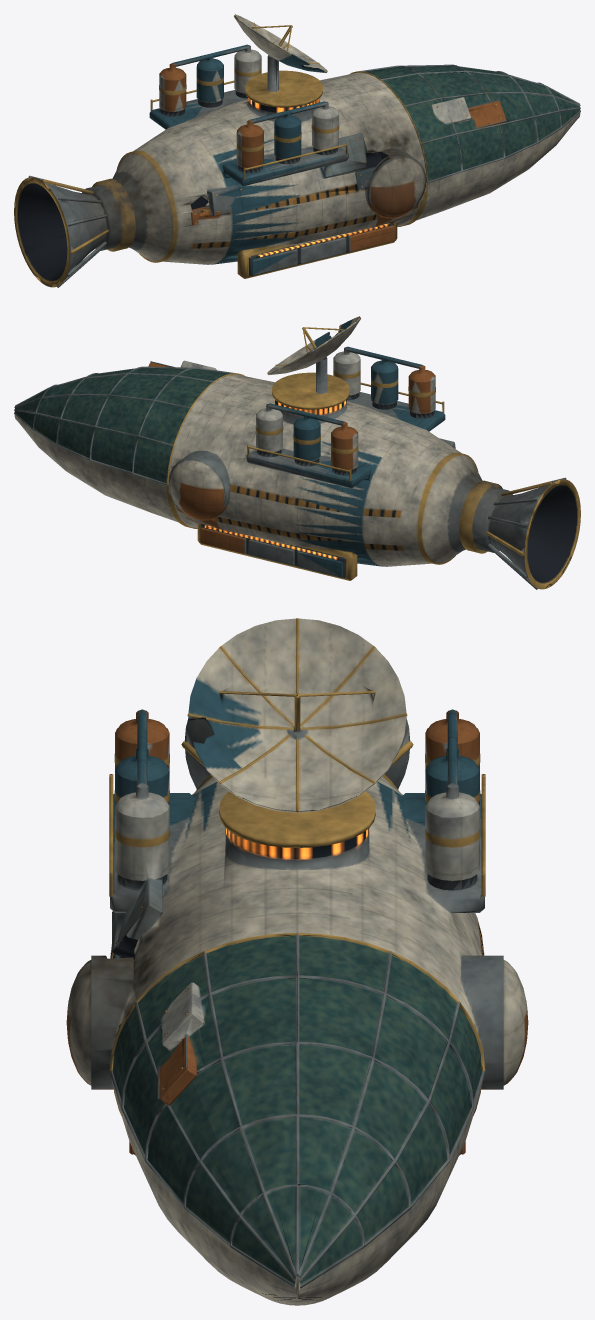
Rendered from seed-patched.glb.
3 views of the same model, one above another, from view 1: azimuth 30°, elevation 25°; view 2: azimuth 150°, elevation 25°; view 3: azimuth 270°, elevation 25° (orthographic). The views are drawn at different scales.
Visible parts, largest first — view 1: seed-patched; view 2: seed-patched; view 3: seed-patched.
Part boxes in pixels (x1,y1,x2,y2): seed-patched: (14,14,580,287); seed-patched: (14,316,580,589); seed-patched: (66,618,528,1305).
Size of the model in its own units: 1 by 0.4107 by 0.3717.
Materials: 1 (1 with a texture image).
